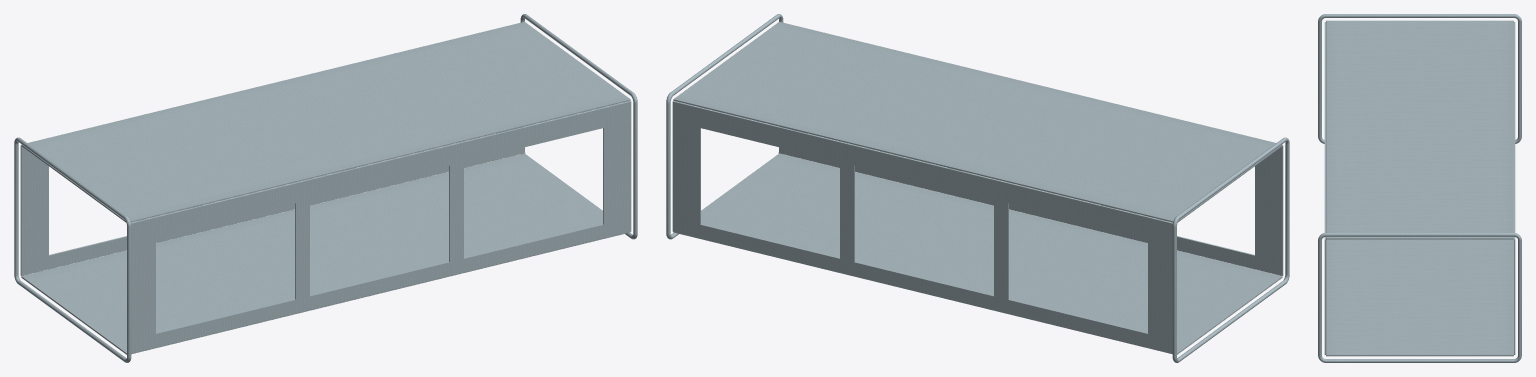
Rendered from 23-metal-lined-open-track-tunnel.fbx.
3 views of the same model, side by side, from view 1: azimuth 30°, elevation 25°; view 2: azimuth 150°, elevation 25°; view 3: azimuth 270°, elevation 25° (orthographic). The views are drawn at different scales.
Visible parts, largest first — view 1: metal-lined-open-track-tunnel; view 2: metal-lined-open-track-tunnel; view 3: metal-lined-open-track-tunnel.
Boxes of the visible parts, x1,y1,x2,y2 form: metal-lined-open-track-tunnel: (14,14,637,362); metal-lined-open-track-tunnel: (666,14,1289,362); metal-lined-open-track-tunnel: (1318,14,1521,362).
Size of the model in its own units: 17230 by 4730 by 6730.
1 material, 1 textured.
